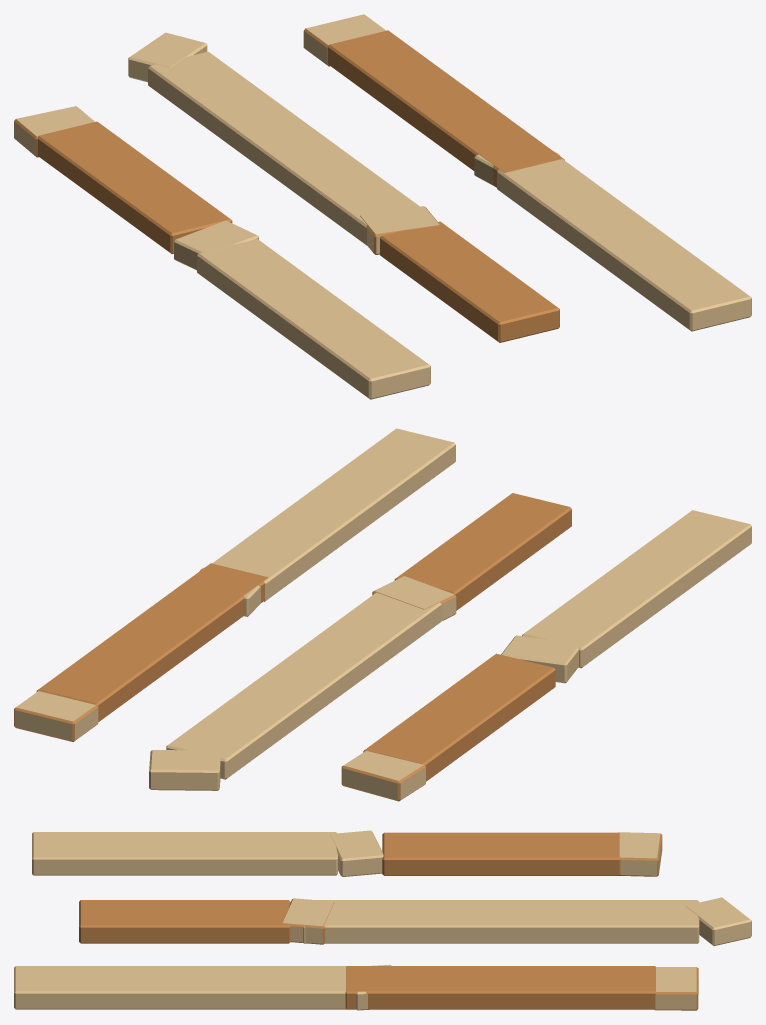
File: prop_planks_a_broken.glb
3 views of the same model, one above another, from view 1: azimuth 30°, elevation 25°; view 2: azimuth 150°, elevation 25°; view 3: azimuth 270°, elevation 25° (orthographic). The views are drawn at different scales.
Visible parts, largest first — view 1: prop_planks_a_chunk_05, prop_planks_a_chunk_01, prop_planks_a_chunk_03, prop_planks_a_chunk_06, prop_planks_a_chunk_04, prop_planks_a_chunk_02; view 2: prop_planks_a_chunk_05, prop_planks_a_chunk_06, prop_planks_a_chunk_01, prop_planks_a_chunk_03, prop_planks_a_chunk_04, prop_planks_a_chunk_02; view 3: prop_planks_a_chunk_05, prop_planks_a_chunk_01, prop_planks_a_chunk_06, prop_planks_a_chunk_03, prop_planks_a_chunk_04, prop_planks_a_chunk_02.
Boxes of the visible parts, box(x1,y1,x2,y2) form: prop_planks_a_chunk_05: box(128, 32, 419, 245); prop_planks_a_chunk_01: box(174, 220, 430, 399); prop_planks_a_chunk_03: box(474, 151, 751, 331); prop_planks_a_chunk_06: box(303, 14, 564, 187); prop_planks_a_chunk_04: box(14, 106, 232, 253); prop_planks_a_chunk_02: box(360, 206, 559, 342); prop_planks_a_chunk_05: box(149, 592, 442, 790); prop_planks_a_chunk_06: box(14, 563, 268, 741); prop_planks_a_chunk_01: box(501, 510, 751, 683); prop_planks_a_chunk_03: box(199, 428, 455, 616); prop_planks_a_chunk_04: box(341, 653, 555, 801); prop_planks_a_chunk_02: box(372, 493, 571, 620); prop_planks_a_chunk_05: box(303, 897, 751, 945); prop_planks_a_chunk_01: box(32, 830, 383, 876); prop_planks_a_chunk_06: box(345, 966, 698, 1010); prop_planks_a_chunk_03: box(14, 964, 391, 1010); prop_planks_a_chunk_04: box(382, 832, 662, 876); prop_planks_a_chunk_02: box(79, 898, 334, 944).
Bounding box in the file's own units: 0.8532 × 0.0475 × 1.63.
